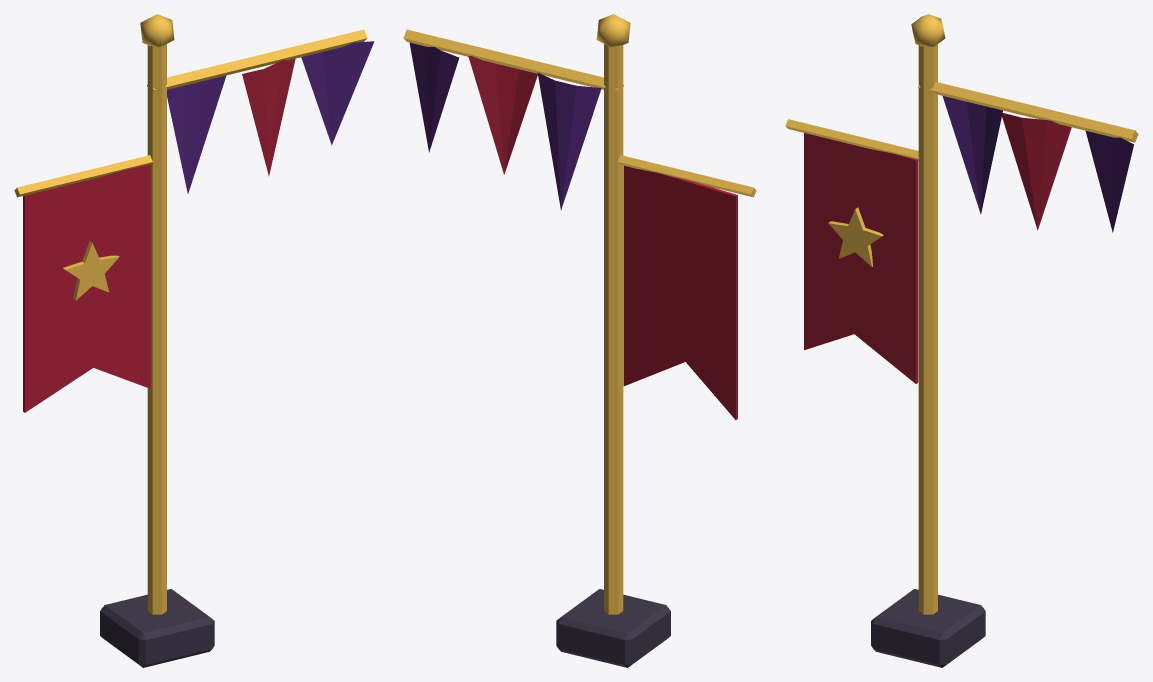
File: banner_flags.glb
3 renders of one model, left to right at view 1: azimuth 30°, elevation 25°; view 2: azimuth 150°, elevation 25°; view 3: azimuth 330°, elevation 25°, orthographic.
Parts seen in each view (by area): view 1: banner_flags; view 2: banner_flags; view 3: banner_flags.
Part boxes in pixels (bbox=[...]): banner_flags: bbox=[14, 14, 374, 667]; banner_flags: bbox=[403, 14, 756, 667]; banner_flags: bbox=[785, 14, 1138, 667].
Size of the model in its own units: 1.48 by 2.54 by 0.32.
